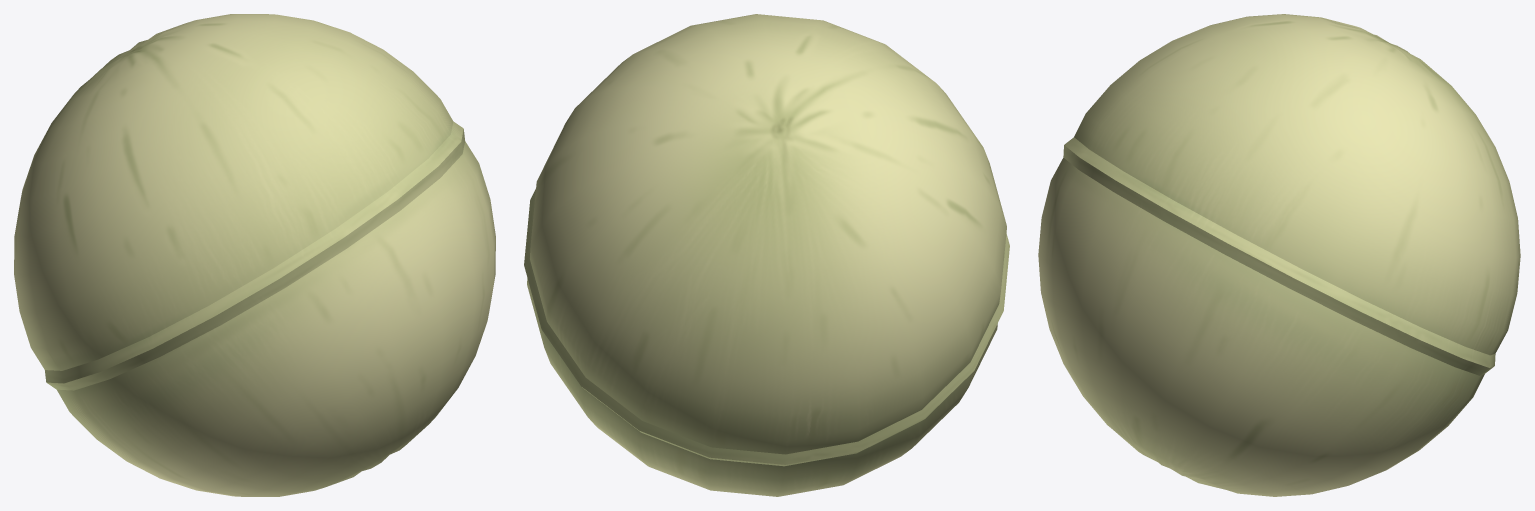
The model's file is Whitemelon.fbx.
The picture shows the model from 3 angles, left to right: view 1: azimuth 30°, elevation 25°; view 2: azimuth 150°, elevation 25°; view 3: azimuth 270°, elevation 25°; orthographic projection.
Parts seen in each view (by area): view 1: Whitemelon; view 2: Whitemelon; view 3: Whitemelon.
Boxes of the visible parts, <box> form: Whitemelon: <box>14,14,495,496</box>; Whitemelon: <box>524,14,1009,496</box>; Whitemelon: <box>1038,14,1520,496</box>.
Size of the model in its own units: 2.39 by 2.4 by 2.39.
